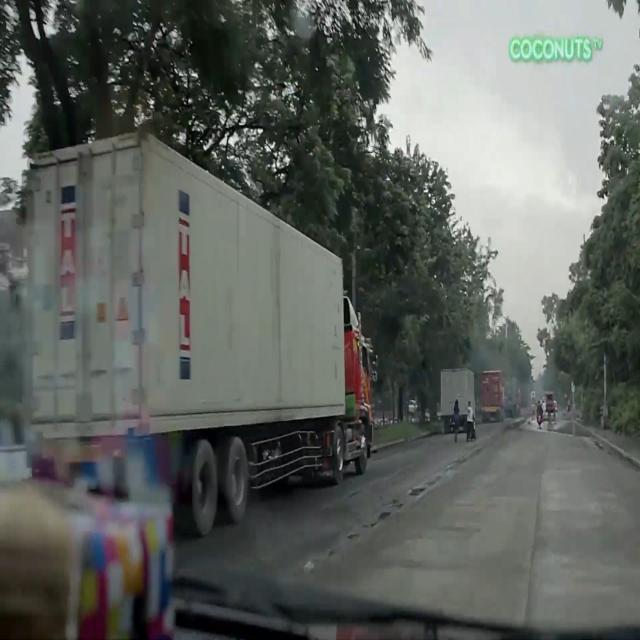truck: (18, 119, 374, 542), (440, 367, 476, 434), (480, 370, 506, 424)
